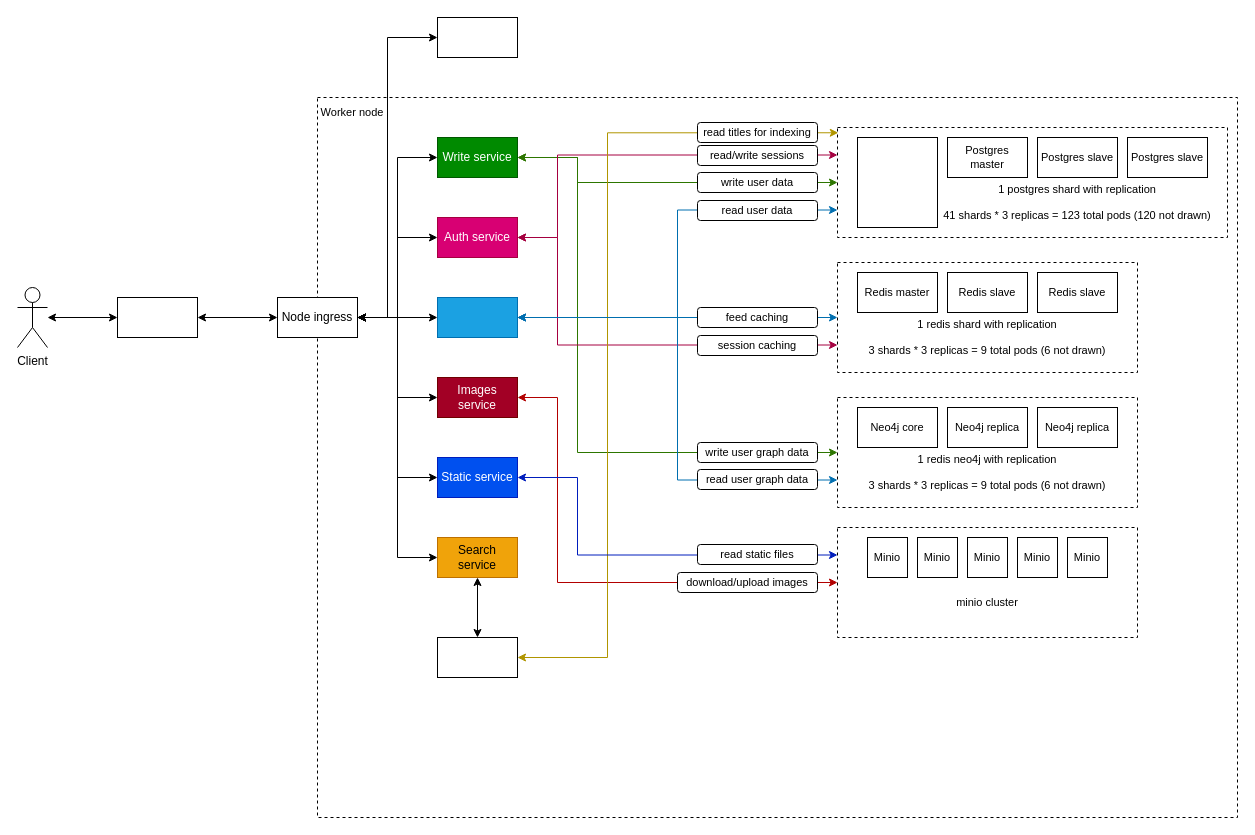
This 1255x835 diagram has some shape labels left out. The centre of each missing label's shape, as x and y in pixels:
"Content service" goes at point 477,317.
"Elastic search" goes at point 477,657.
"L4 balancer cluster" goes at point 157,317.
"PgBouncer 4 pods" goes at point 897,182.
"Pod in another node" goes at point 477,37.
